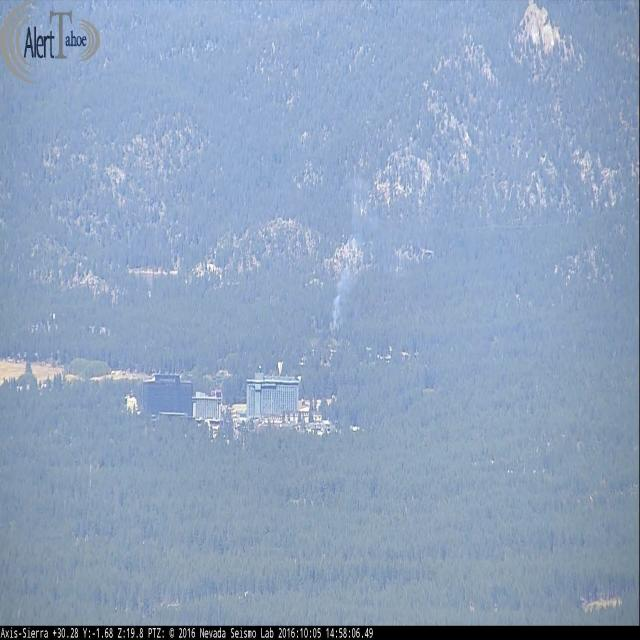smoke: (330, 252, 359, 332)
